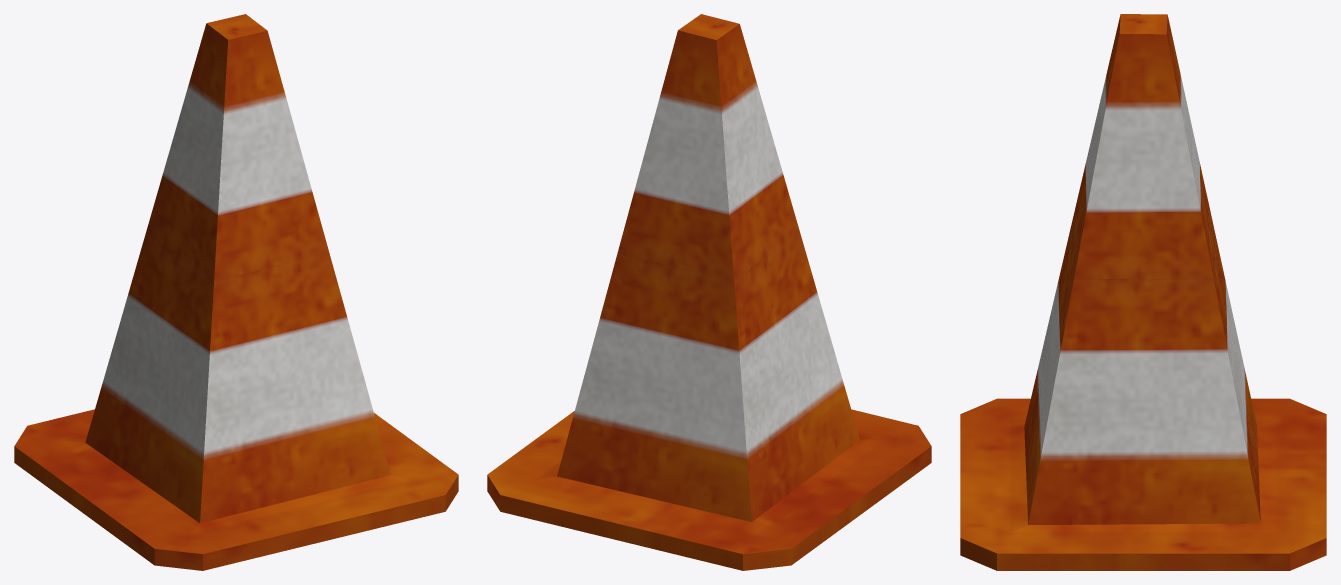
The model's file is Urban_TrafficConeSquare_Model.fbx.
3 views of the same model, side by side, from view 1: azimuth 30°, elevation 25°; view 2: azimuth 150°, elevation 25°; view 3: azimuth 270°, elevation 25° (orthographic). The views are drawn at different scales.
Parts seen in each view (by area): view 1: Urban_TrafficConeSquare_Mesh; view 2: Urban_TrafficConeSquare_Mesh; view 3: Urban_TrafficConeSquare_Mesh.
Part boxes in pixels (bbox=[...]): Urban_TrafficConeSquare_Mesh: bbox=[14, 14, 458, 570]; Urban_TrafficConeSquare_Mesh: bbox=[487, 14, 931, 570]; Urban_TrafficConeSquare_Mesh: bbox=[960, 14, 1326, 570].
Bounding box in the file's own units: 0.4 × 0.5656 × 0.4.
